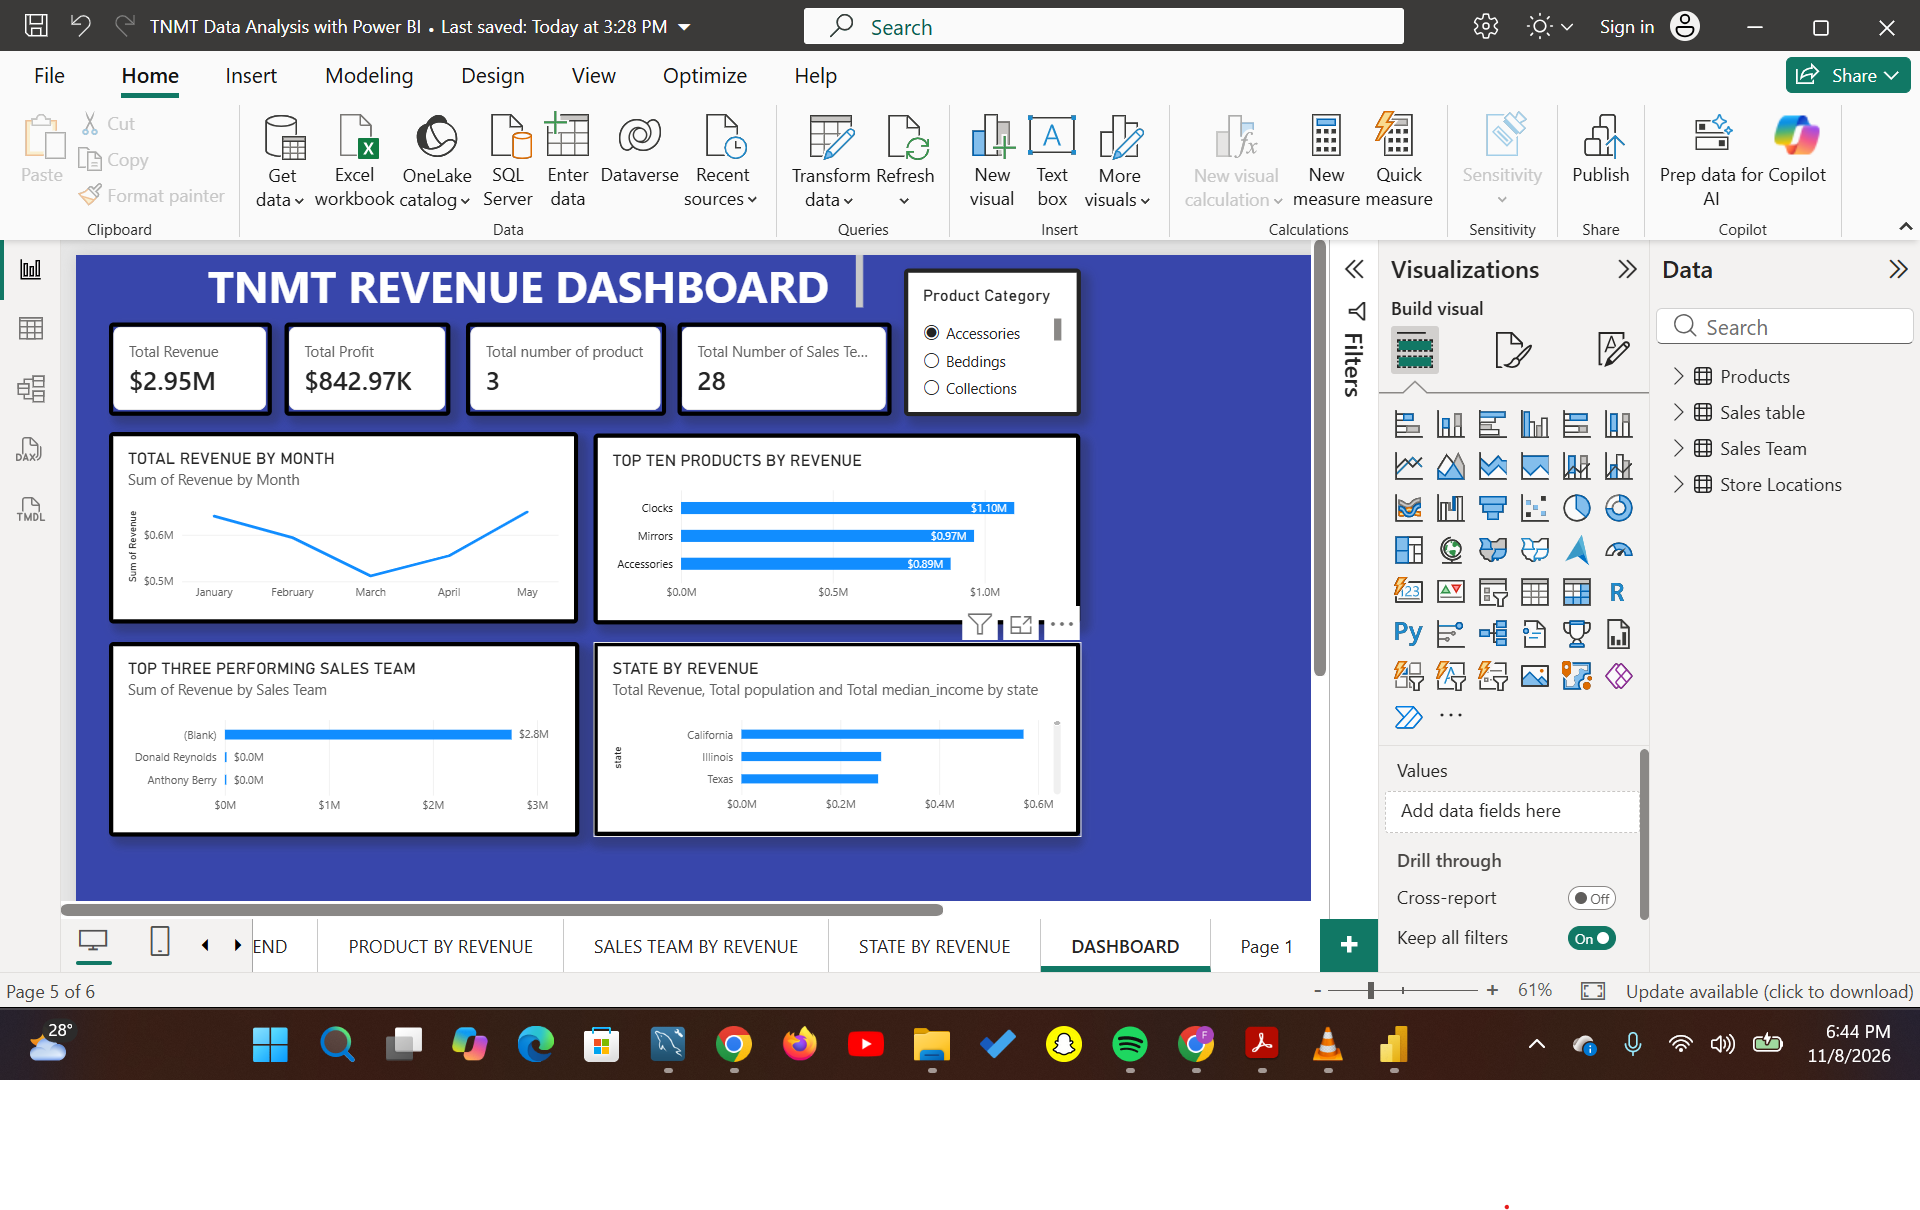

The page's visual inventory and layout, read from the dashboard file:
{"tool":"powerbi","page":{"name":"DASHBOARD","canvas":[1920,1080],"ordinal":4},"visuals":[{"type":"cardVisual","fields":{"Data":["Sales table.Total Revenue"]},"box":[35.6,74.6,178,101.7],"z":0},{"type":"cardVisual","fields":{"Data":["Sales table.Total Profit"]},"box":[227.1,74.6,181.4,101.7],"z":1000},{"type":"cardVisual","fields":{"Data":["Sales table.Total number of product"]},"box":[425.4,74.6,218.6,101.7],"z":2000},{"type":"cardVisual","fields":{"Data":["Sales table.Total Number of Sales Team"]},"box":[657.6,74.6,233.9,101.7],"z":3000},{"type":"lineChart","title":"TOTAL REVENUE BY MONTH","fields":{"Category":["Sales table.Sales Date.Variation.Date Hierarchy.Month"],"Y":["Sum(Sales table.Revenue)"]},"box":[35.6,193.2,512.7,209.5],"z":4000},{"type":"barChart","title":"TOP TEN PRODUCTS BY REVENUE ","fields":{"Category":["Products.Product Name"],"Y":["Sum(Sales table.Revenue)"]},"box":[566.1,194.9,532.2,208.5],"z":5000},{"type":"barChart","title":"TOP THREE PERFORMING SALES TEAM","fields":{"Category":["Sales Team.Sales Team"],"Y":["Sum(Sales table.Revenue)"]},"box":[35.6,423.7,514.3,212.7],"z":6000},{"type":"barChart","title":"STATE BY REVENUE","fields":{"Category":["Store Locations.state"],"Y":["Sum(Sales table.Revenue)"]},"box":[566.1,423.7,532.2,211.9],"z":7000},{"type":"textbox","box":[144.1,0,715.8,60.5],"z":7001},{"type":"listSlicer","fields":{"Values":["Products.Product Category"]},"box":[905.1,15.3,193.2,161],"z":7002}]}

Visuals, with their boxes on the page's 1920x1080 design canvas (x1, y1, x2, y2). These are canvas units, not pixel positions in the 1920x1210 screenshot, which may show the page scaled, cropped or inside an application window:
cardVisual - Sales table.Total Revenue: left=36, top=75, right=214, bottom=176
cardVisual - Sales table.Total Profit: left=227, top=75, right=408, bottom=176
cardVisual - Sales table.Total number of product: left=425, top=75, right=644, bottom=176
cardVisual - Sales table.Total Number of Sales Team: left=658, top=75, right=892, bottom=176
"TOTAL REVENUE BY MONTH" lineChart: left=36, top=193, right=548, bottom=403
"TOP TEN PRODUCTS BY REVENUE " barChart: left=566, top=195, right=1098, bottom=403
"TOP THREE PERFORMING SALES TEAM" barChart: left=36, top=424, right=550, bottom=636
"STATE BY REVENUE" barChart: left=566, top=424, right=1098, bottom=636
textbox: left=144, top=0, right=860, bottom=60
listSlicer - Products.Product Category: left=905, top=15, right=1098, bottom=176
